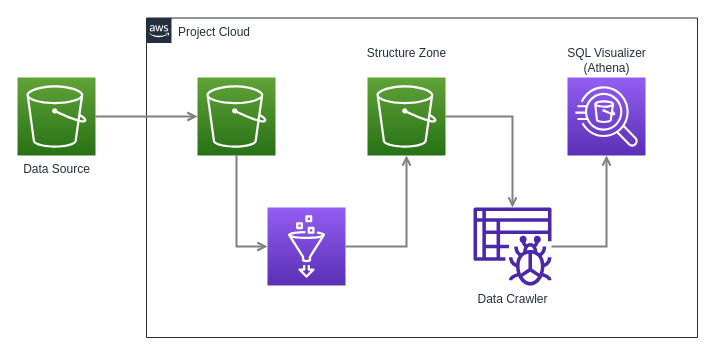
The diagram is 715 pixels wide and 355 high, and some of its shapes have lost their labels. Each missing label, with the centre of its shape:
"Process Job" goes at pixel 306 246.
"Raw Zone" goes at pixel 236 116.
